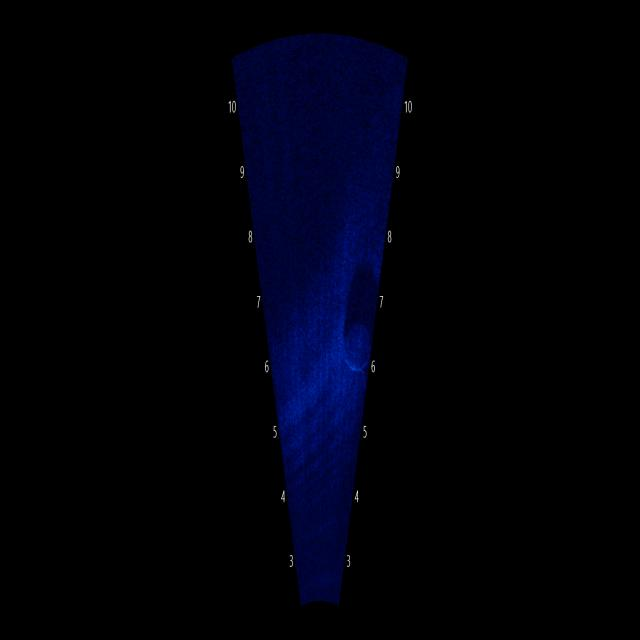circle: (339, 307, 375, 380)
